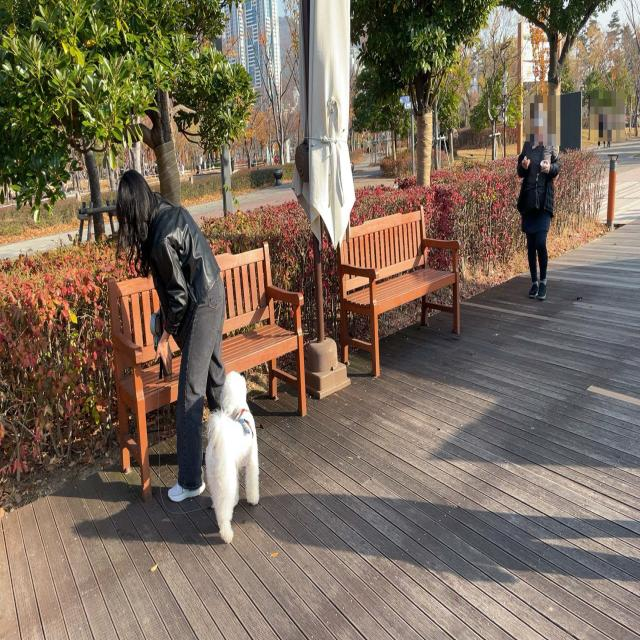Leashed_Dog: (151, 302, 260, 545)
